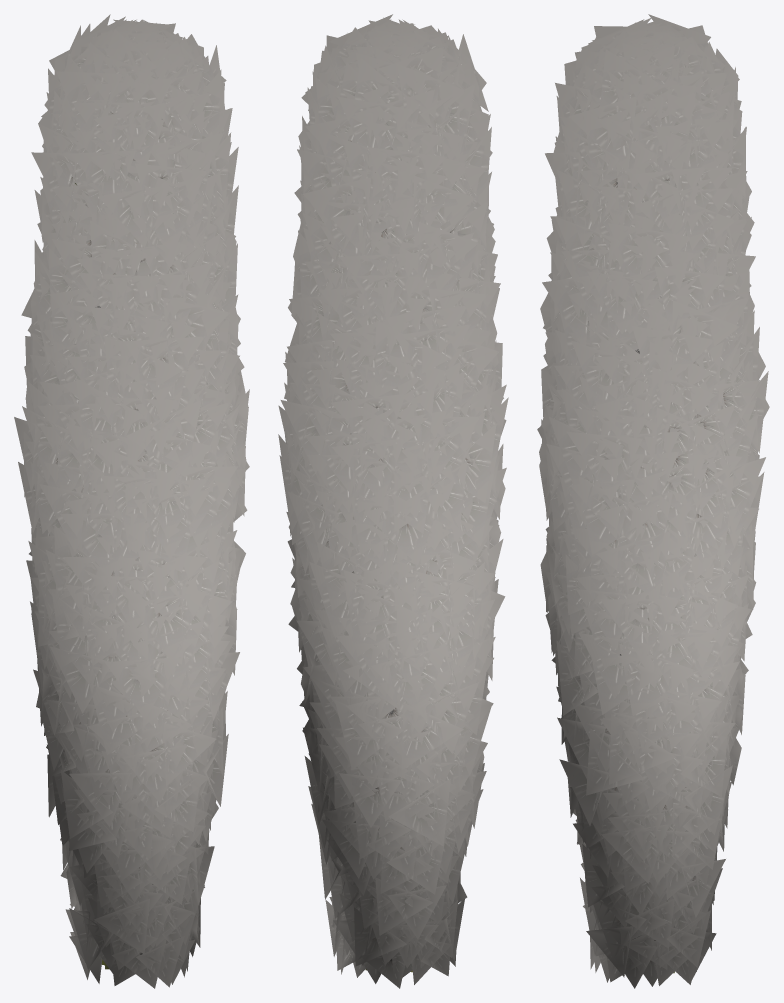
Rendered from Planet_Saguaro01.fbx.
3 views of the same model, side by side, from view 1: azimuth 30°, elevation 25°; view 2: azimuth 150°, elevation 25°; view 3: azimuth 270°, elevation 25° (orthographic).
Parts seen in each view (by area): view 1: Planet_Saguaro01; view 2: Planet_Saguaro01; view 3: Planet_Saguaro01.
Part boxes in pixels (x1,y1,x2,y2): Planet_Saguaro01: (14, 14, 249, 988); Planet_Saguaro01: (278, 14, 508, 988); Planet_Saguaro01: (537, 14, 769, 988).
Bounding box in the file's own units: 0.2259 × 1 × 0.2236.
